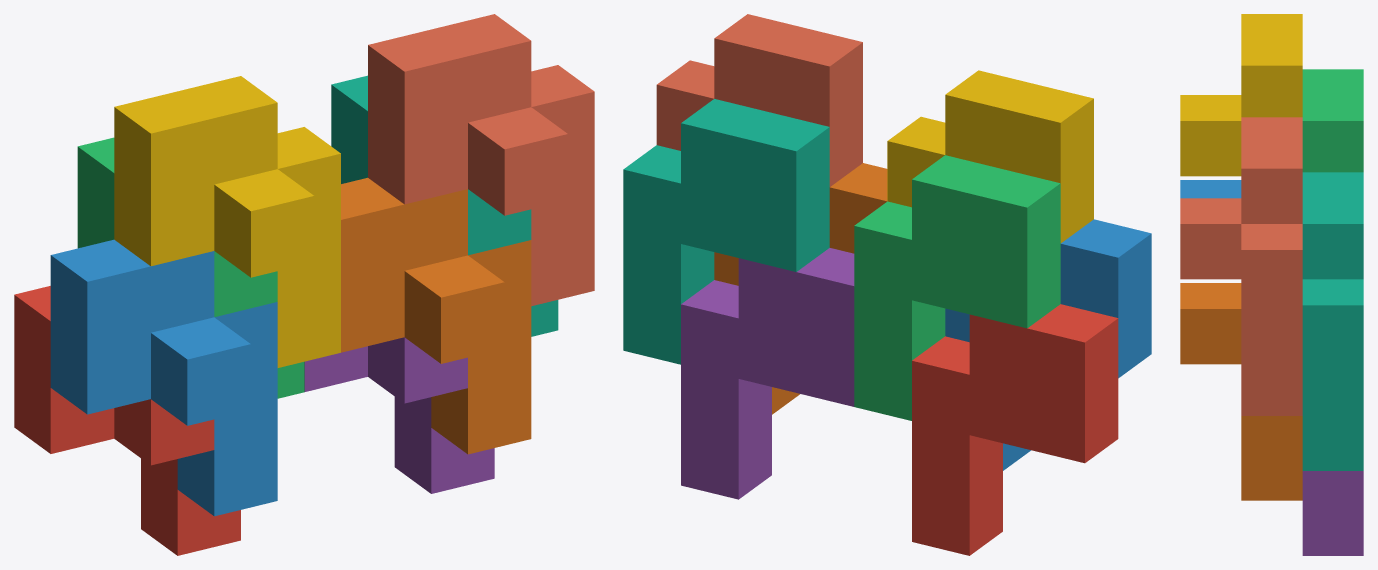
The model's file is tiling.obj.
The picture shows the model from 3 angles, left to right: view 1: azimuth 30°, elevation 25°; view 2: azimuth 150°, elevation 25°; view 3: azimuth 270°, elevation 25°; orthographic projection. The views are drawn at different scales.
Parts seen in each view (by area): view 1: copy_1_domain_8, copy_1_domain_4, copy_1_domain_2, copy_1_domain_6, copy_1_domain_1, copy_1_domain_5, copy_1_domain_3, copy_1_domain_7; view 2: copy_1_domain_1, copy_1_domain_7, copy_1_domain_3, copy_1_domain_5, copy_1_domain_4, copy_1_domain_8, copy_1_domain_2, copy_1_domain_6; view 3: copy_1_domain_8, copy_1_domain_7, copy_1_domain_4, copy_1_domain_6, copy_1_domain_3, copy_1_domain_5, copy_1_domain_2.
Boxes of the visible parts, x1,y1,x2,y2 form: copy_1_domain_8: (368, 14, 594, 306); copy_1_domain_4: (114, 76, 340, 367); copy_1_domain_2: (50, 239, 277, 516); copy_1_domain_6: (341, 177, 531, 454); copy_1_domain_1: (14, 286, 240, 555); copy_1_domain_5: (304, 337, 494, 493); copy_1_domain_3: (77, 137, 304, 398); copy_1_domain_7: (331, 75, 558, 336); copy_1_domain_1: (912, 304, 1118, 555); copy_1_domain_7: (623, 99, 829, 364); copy_1_domain_3: (854, 155, 1060, 420); copy_1_domain_5: (681, 248, 854, 499); copy_1_domain_4: (887, 70, 1093, 243); copy_1_domain_8: (656, 14, 862, 186); copy_1_domain_2: (945, 219, 1151, 470); copy_1_domain_6: (714, 163, 887, 414); copy_1_domain_8: (1180, 117, 1302, 415); copy_1_domain_7: (1302, 172, 1363, 470); copy_1_domain_4: (1180, 14, 1302, 176); copy_1_domain_6: (1180, 283, 1302, 500); copy_1_domain_3: (1302, 69, 1363, 172); copy_1_domain_5: (1302, 471, 1363, 555); copy_1_domain_2: (1180, 180, 1241, 198).
Bounding box in the file's own units: 8 × 7 × 3.
